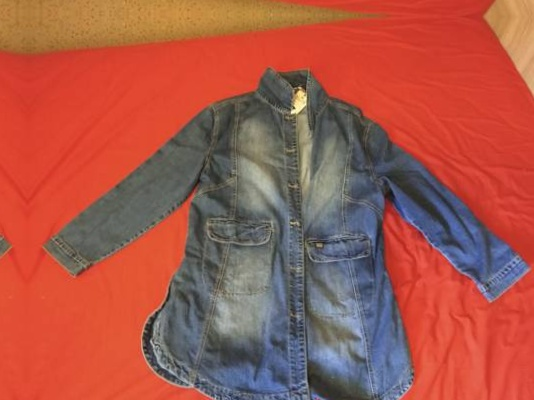Blazer: (49, 74, 534, 400), (0, 69, 4, 400)
